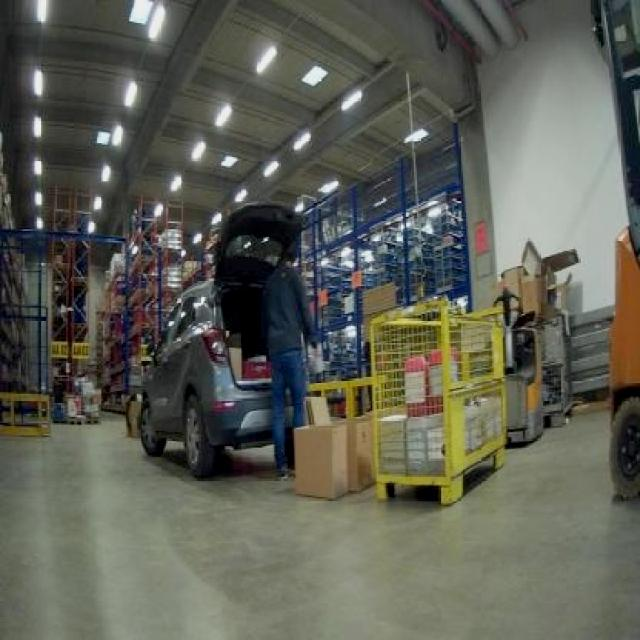floor: (0, 406, 637, 637)
pallets: (369, 298, 503, 502), (292, 395, 345, 495), (0, 392, 46, 432)
